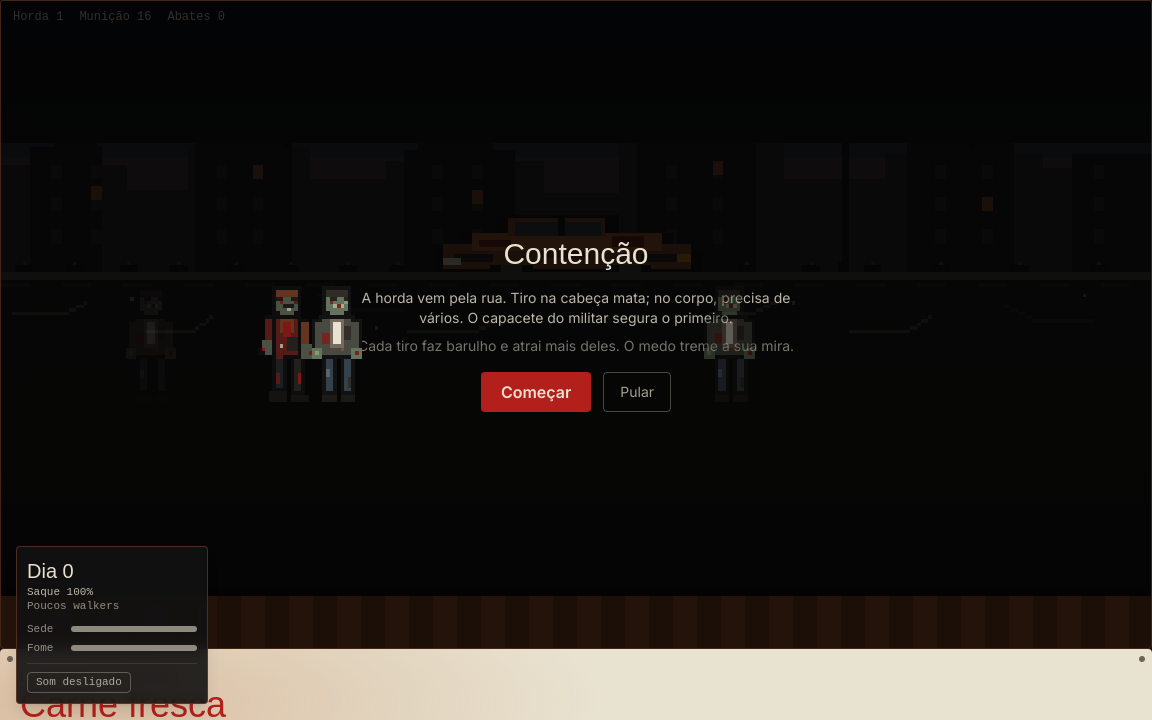
HordeGame › shoots an infected in the head from the keyboard and counts the kill
The image size is (1152, 720).
Click the button "Começar" at (536, 392), box [481,372,591,412]
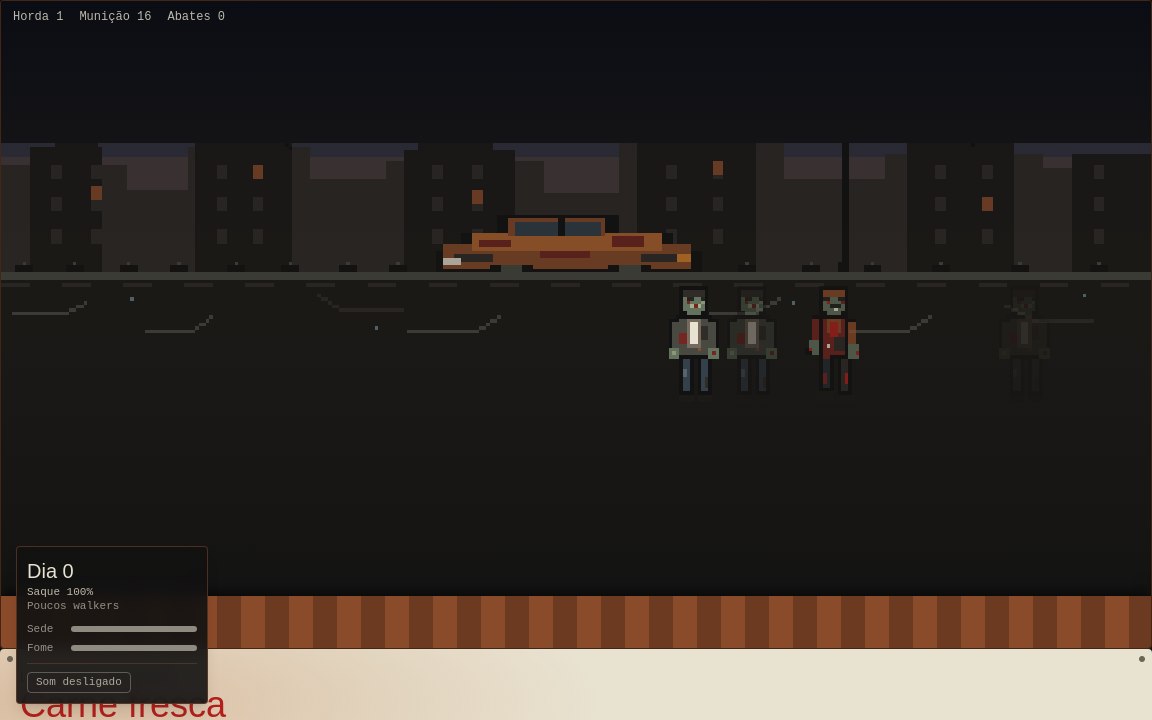
Click the button named "walker" at (694, 344), box [665,286,723,402]
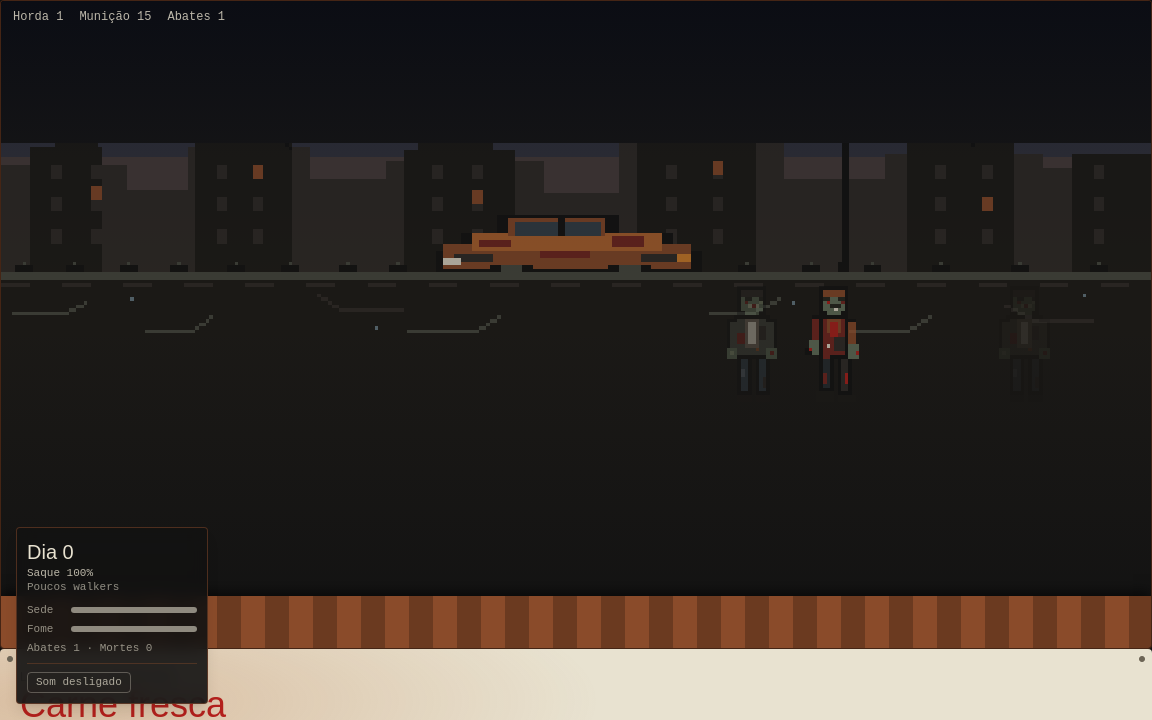
expect the message named "sobrevivente" shows "Abates 1": met, box [16,527,208,704]
